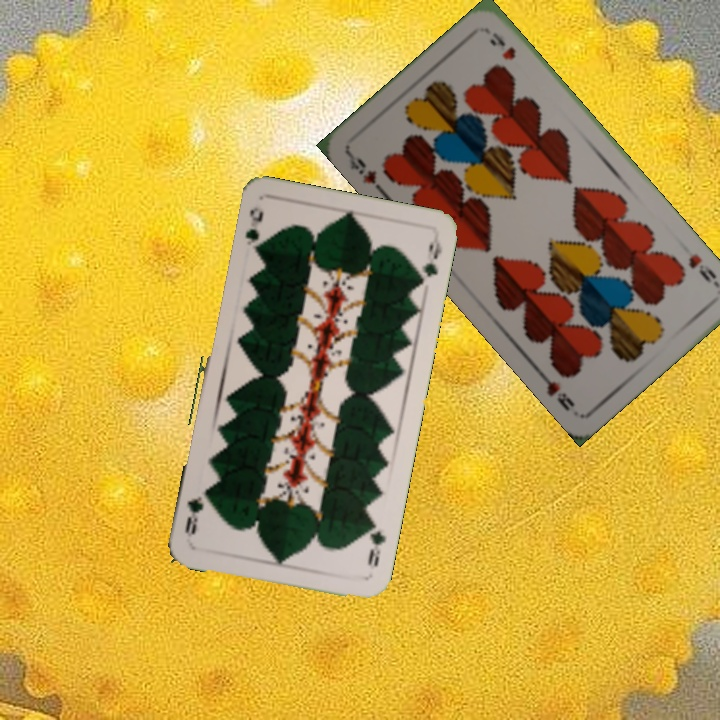G9: (363, 517, 389, 569), (241, 203, 264, 256)
H9: (344, 149, 388, 198), (684, 249, 719, 285)
